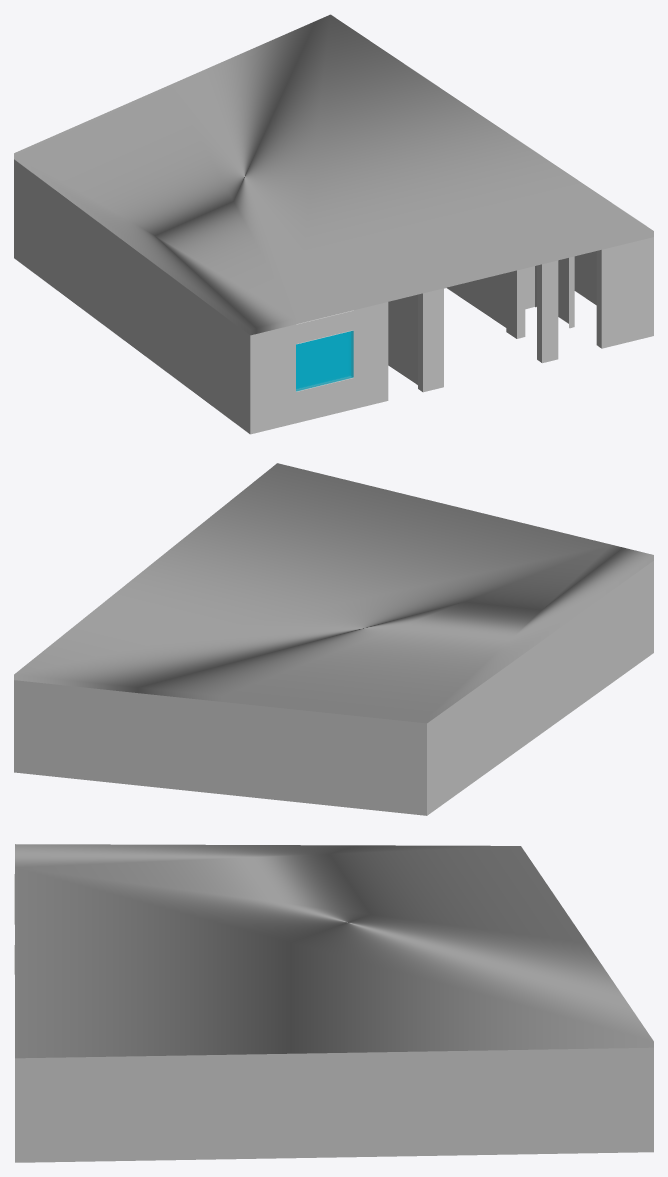
3 views of the same model, one above another, from view 1: azimuth 30°, elevation 25°; view 2: azimuth 150°, elevation 25°; view 3: azimuth 270°, elevation 25° (orthographic). The views are drawn at different scales.
Visible parts, largest first — view 1: roof, walls, windows; view 2: roof, walls; view 3: roof, walls.
Boxes of the visible parts, x1,y1,x2,y2 form: roof: (14, 14, 653, 335); walls: (14, 159, 653, 434); windows: (296, 330, 353, 391); roof: (14, 463, 653, 723); walls: (14, 561, 653, 815); roof: (15, 844, 653, 1058); walls: (14, 874, 653, 1162).
Size of the model in its own units: 10.67 by 2.65 by 13.88.
